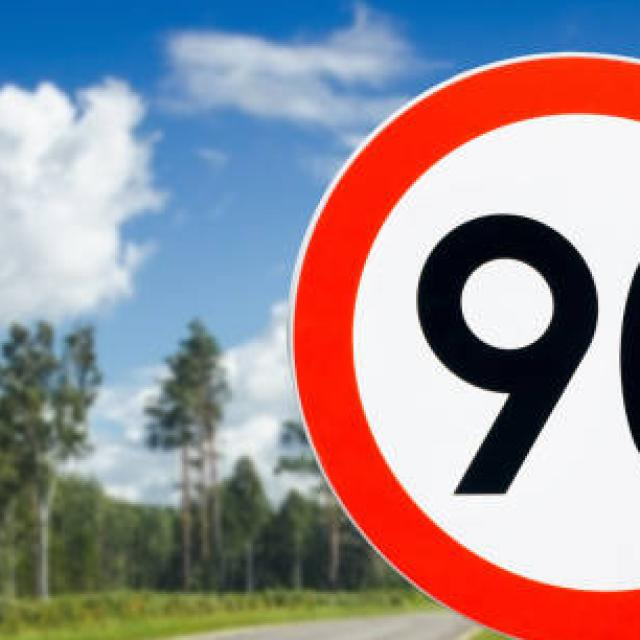Speed Limit -90-: (282, 46, 640, 640)
